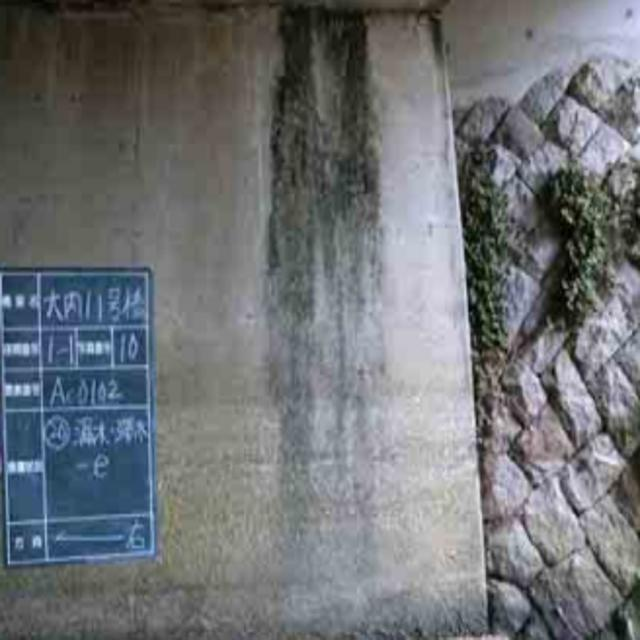leakage: (263, 6, 397, 530)
